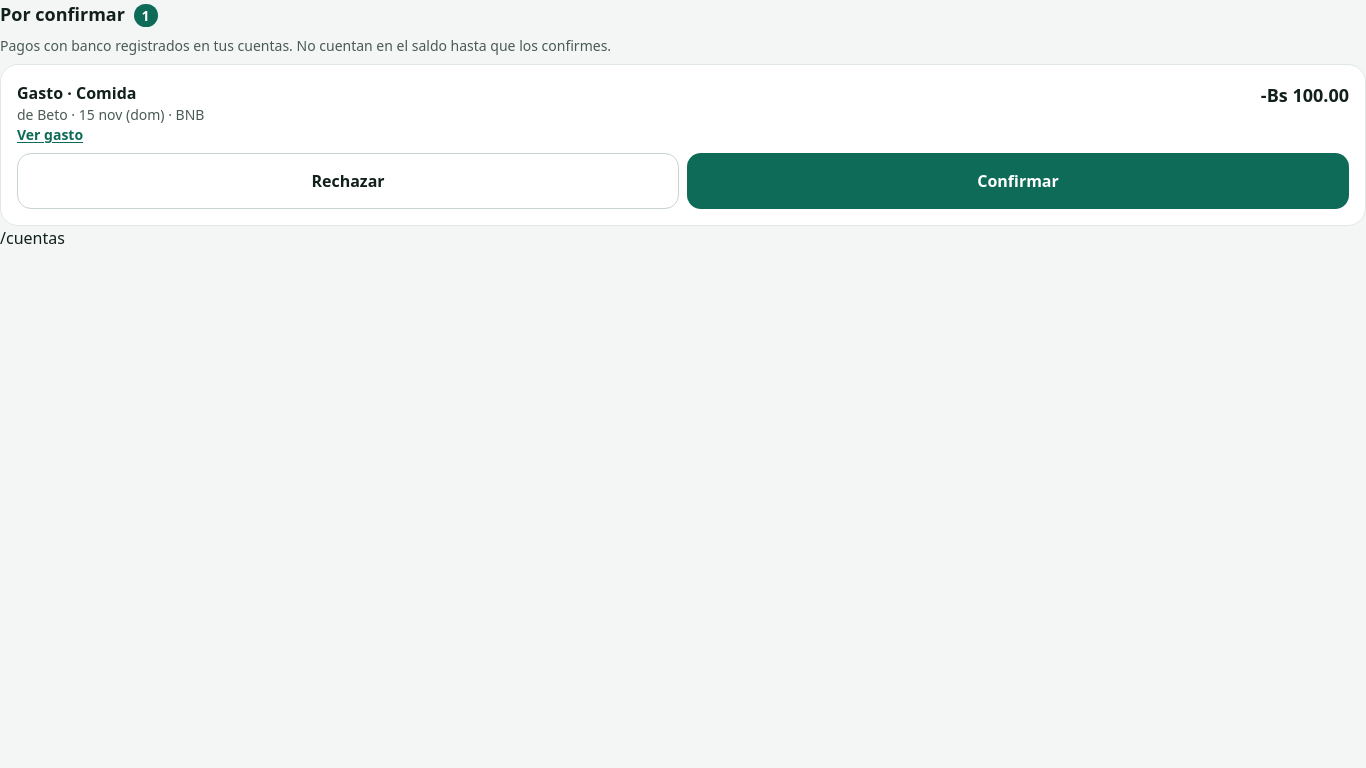
Test case: Bandeja «Por confirmar» › lista los pagos con su origen, enlace al gasto y botones; confirmar avisa el cambio de día
The image size is (1366, 768).
Later steps or results of the test are not shown.
Expected: the heading "Por confirmar 1" is shown, [0, 2, 158, 27]
Expected: the list item with test id "fila-por-confirmar" shows "Gasto · Comida", [0, 64, 1365, 226]
Click the button "Confirmar": coordinates (1018, 181) [687, 153, 1349, 209]
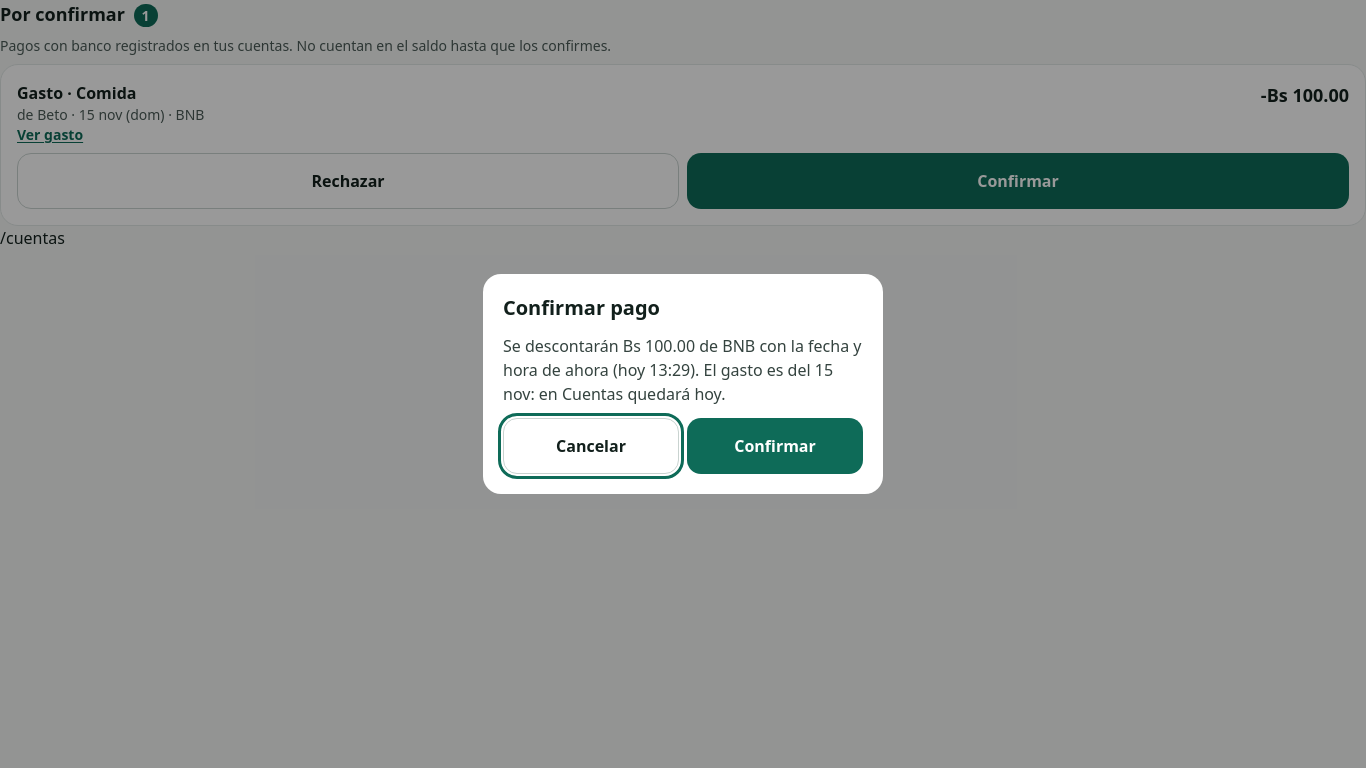
Result: the dialog "Confirmar pago" shows "con la fecha y hora de ahora" at [503, 335, 862, 405]
